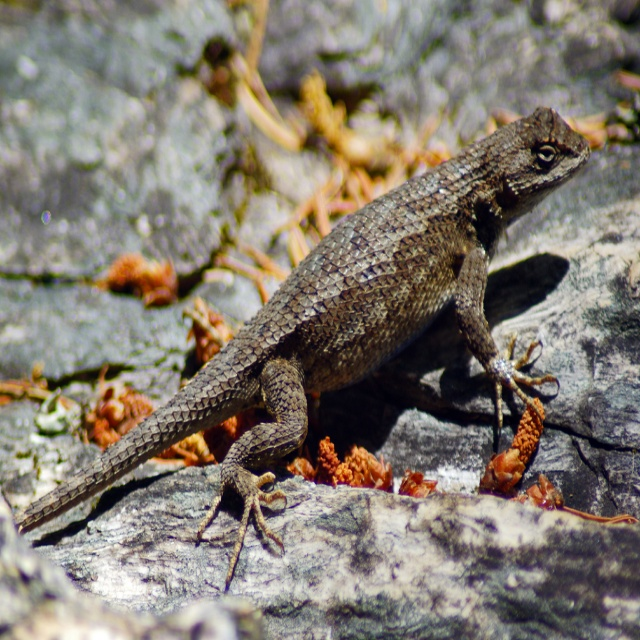Lizard: (31, 80, 599, 597)
